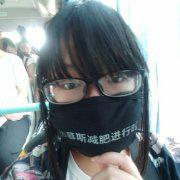OK: (39, 60, 143, 158)
